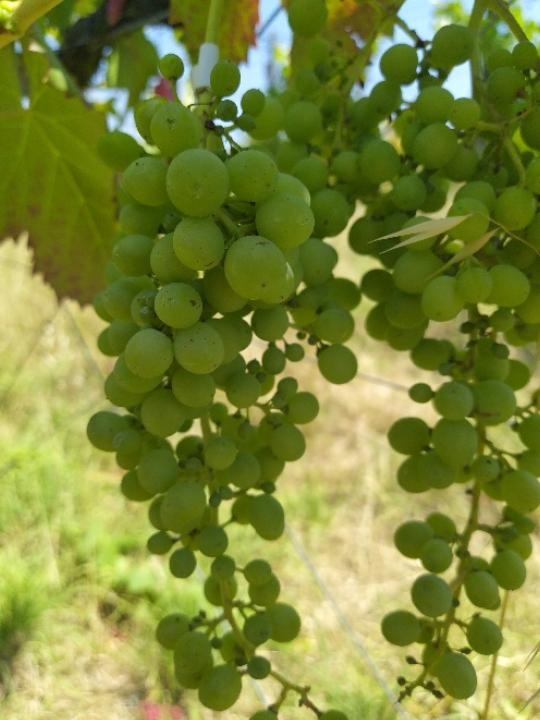grape: (80, 53, 358, 720)
